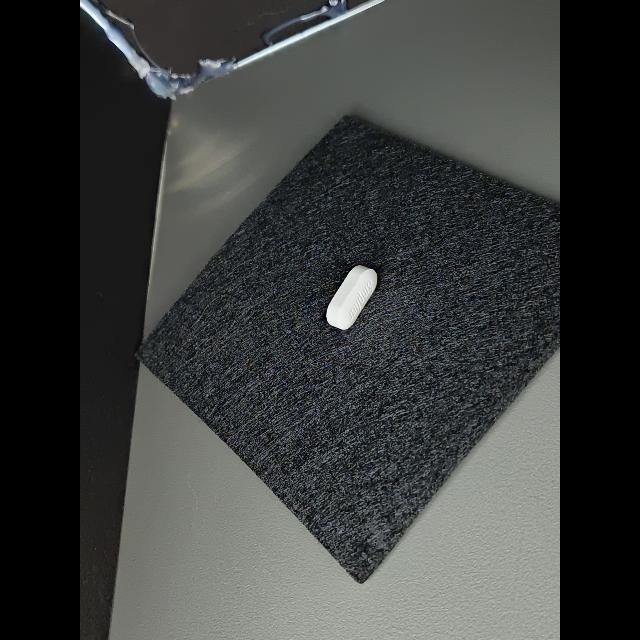Intact Pill: (326, 265, 377, 329)
